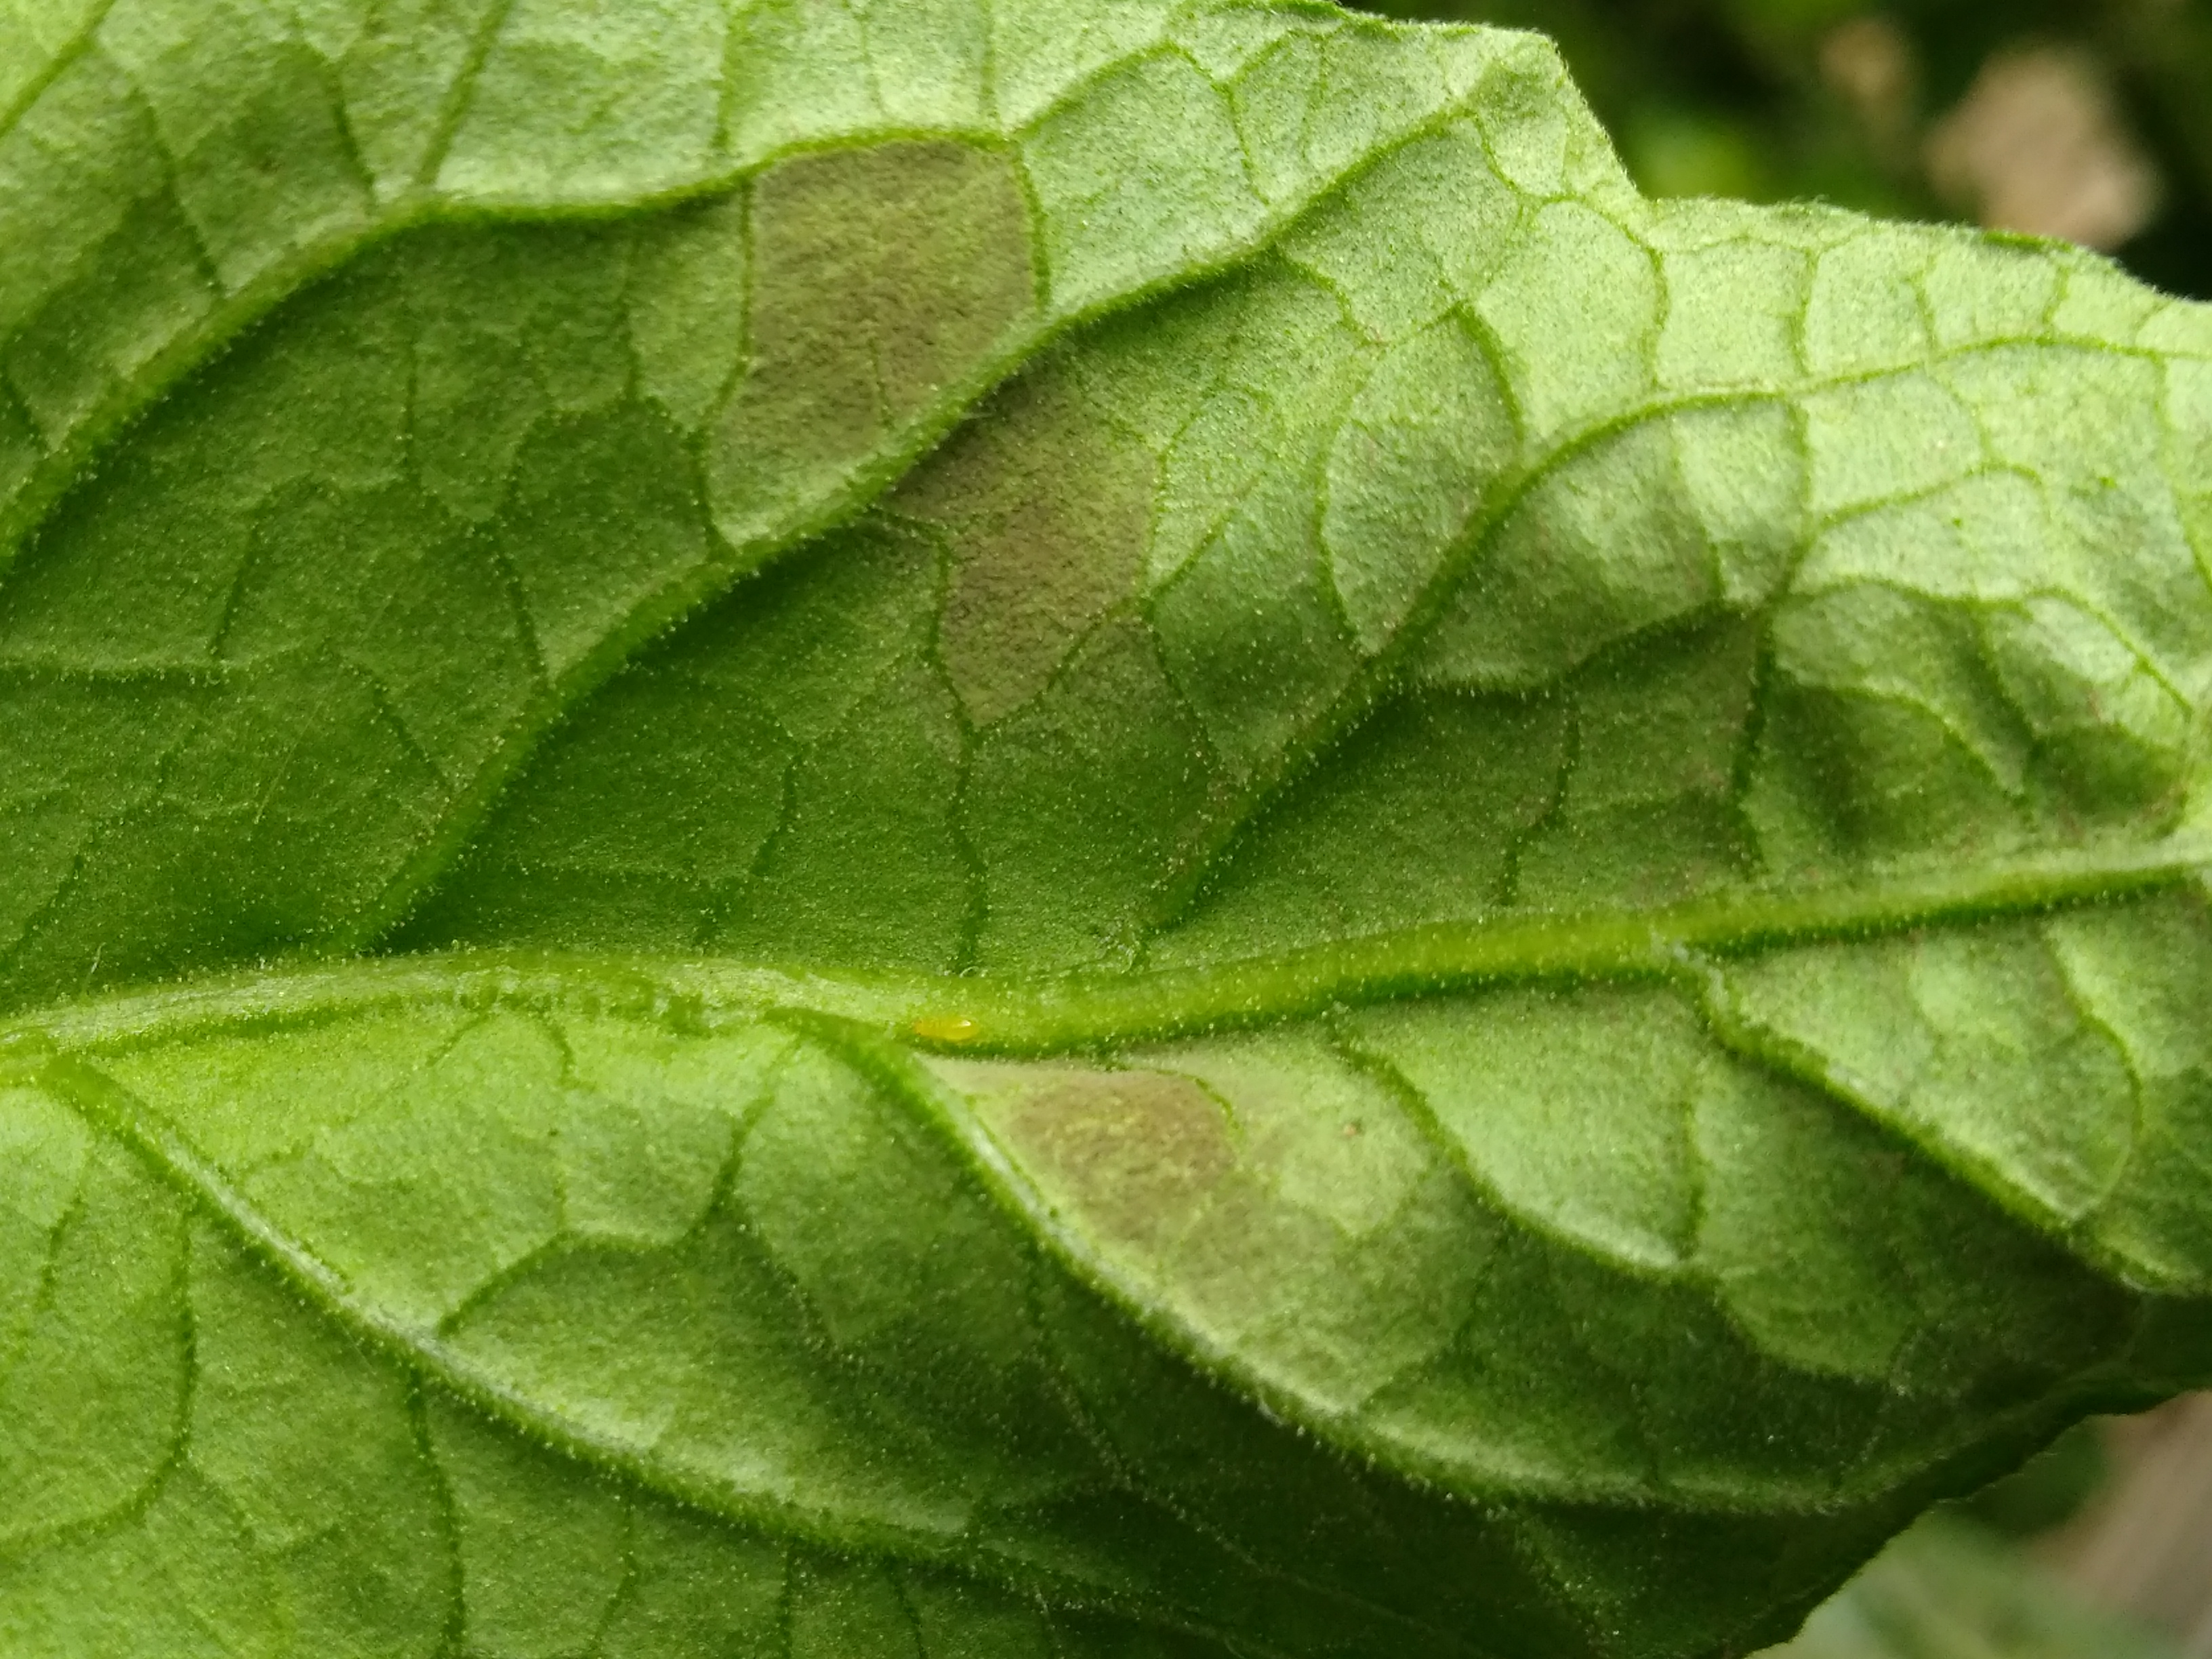negra: (742, 115, 1190, 734), (956, 1058, 1278, 1277)
